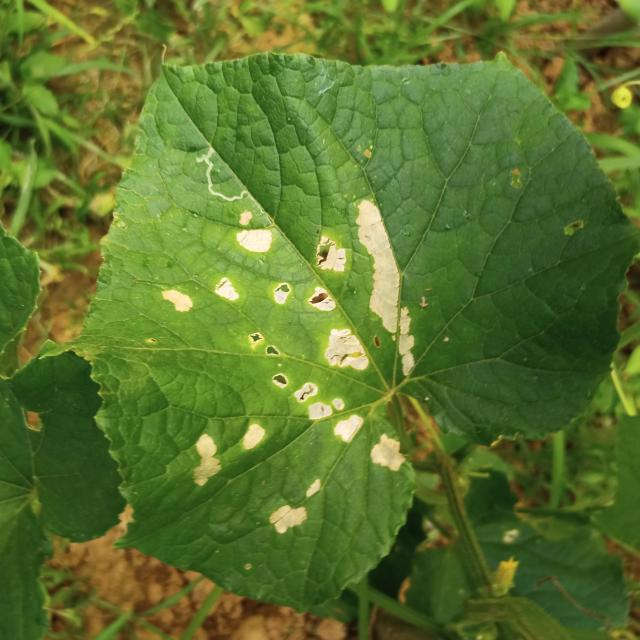disease_cucumber: (154, 200, 416, 475), (190, 417, 266, 492), (269, 479, 324, 535)
